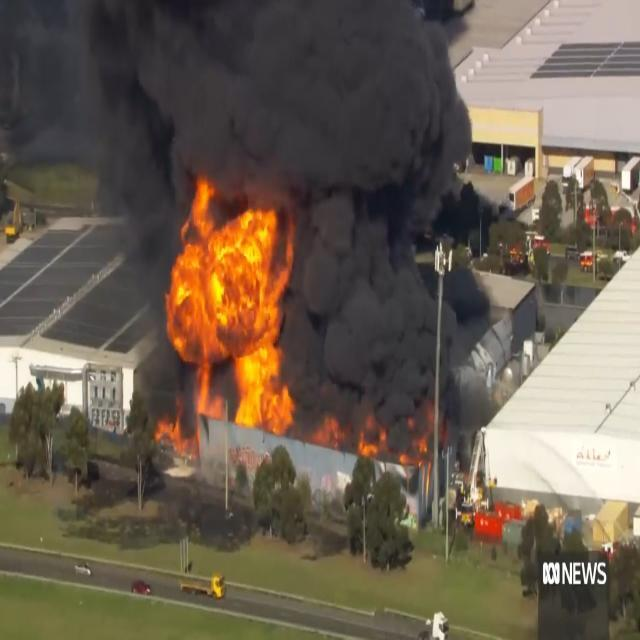fire: (160, 168, 304, 433), (398, 401, 430, 467), (321, 418, 376, 455)
